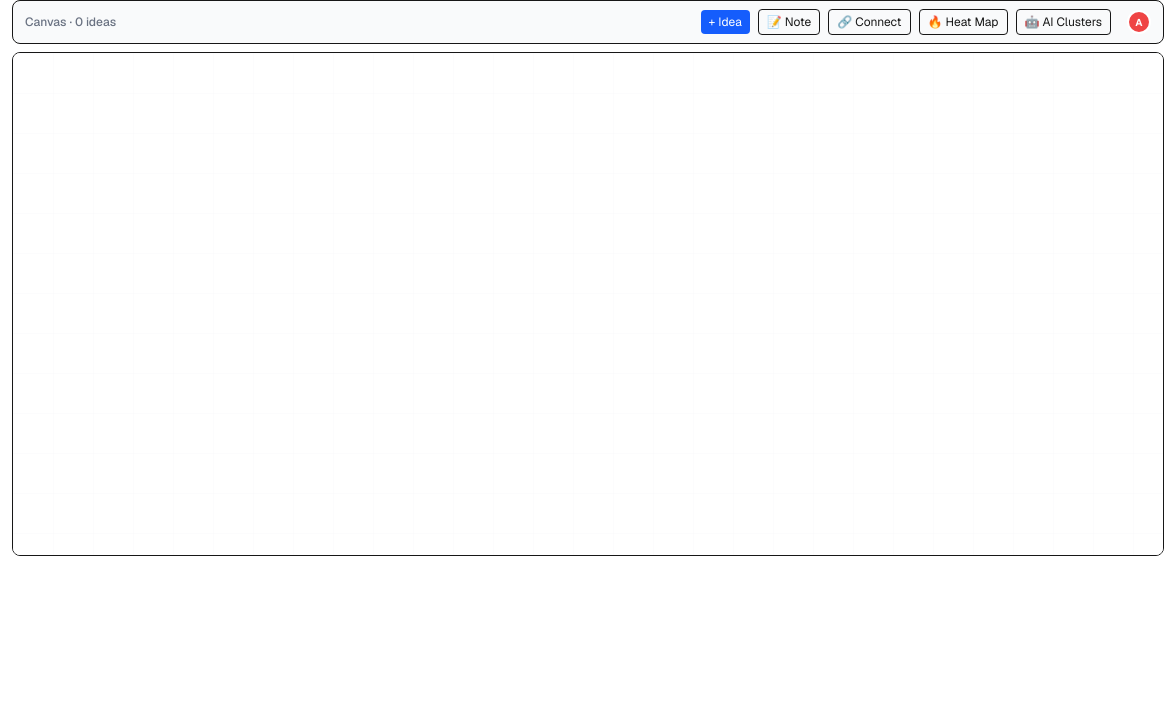
Test case: CollaborativeCanvas › shows note mode indicator when Note button is clicked
Click the button "📝 Note". click: {"x": 789, "y": 22}
box: [758,9,820,35]
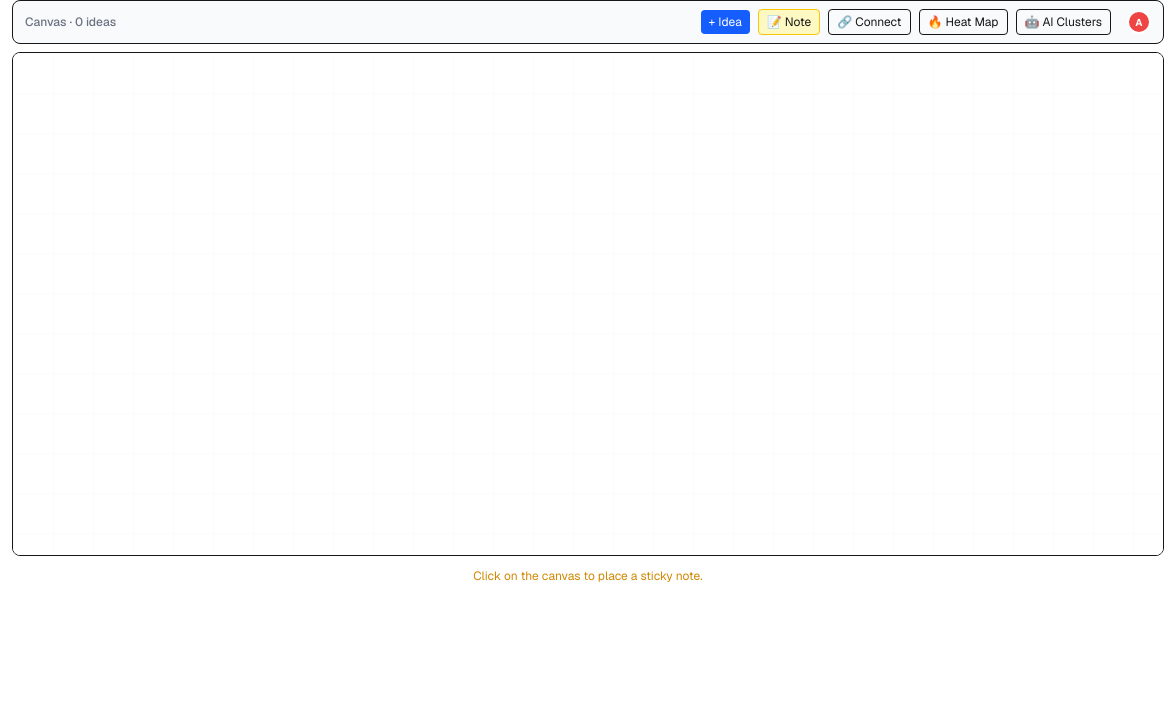
Result: the text "Click on the canvas to place a sticky note." is shown at [473,568,703,584]
